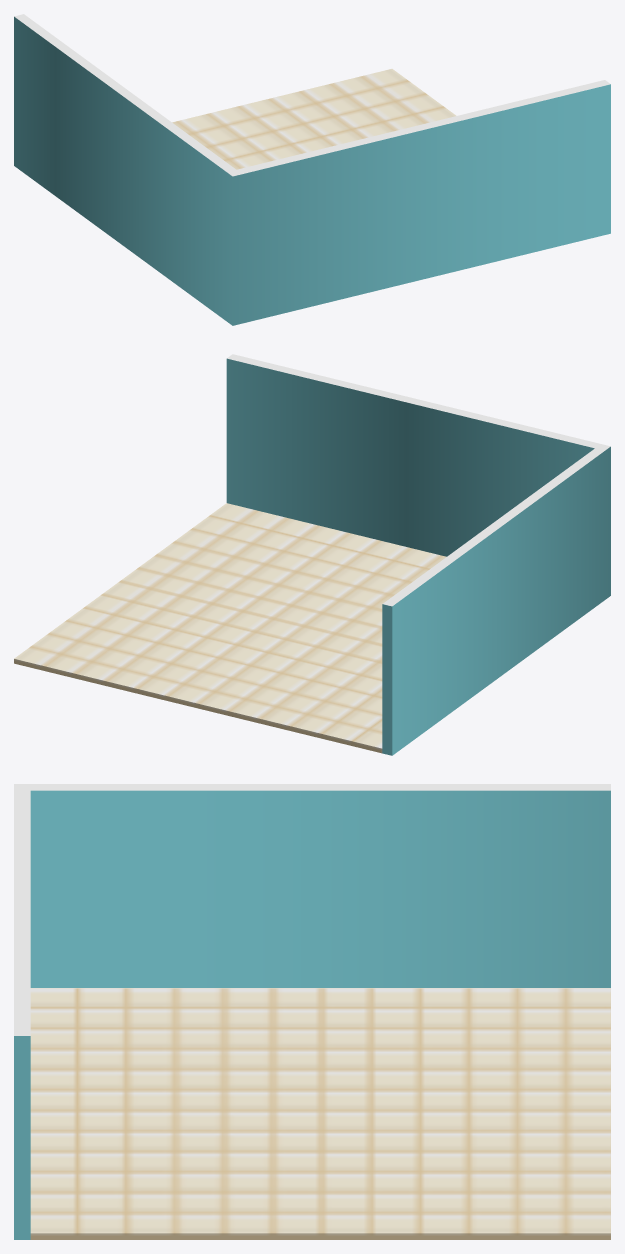
Rendered from Scene_base_shop.FBX.
3 renders of one model, top to bottom at view 1: azimuth 30°, elevation 25°; view 2: azimuth 150°, elevation 25°; view 3: azimuth 270°, elevation 25°, orthographic. The views are drawn at different scales.
Parts seen in each view (by area): view 1: wall, floor; view 2: wall, floor; view 3: floor, wall.
Boxes of the visible parts, x1,y1,x2,y2 form: wall: (14, 14, 610, 325); floor: (172, 69, 456, 169); wall: (226, 354, 610, 755); floor: (14, 503, 446, 753); floor: (30, 988, 610, 1239); wall: (14, 784, 610, 1239).
Size of the model in its own units: 162 by 61.02 by 162.
1 material, 1 textured.
